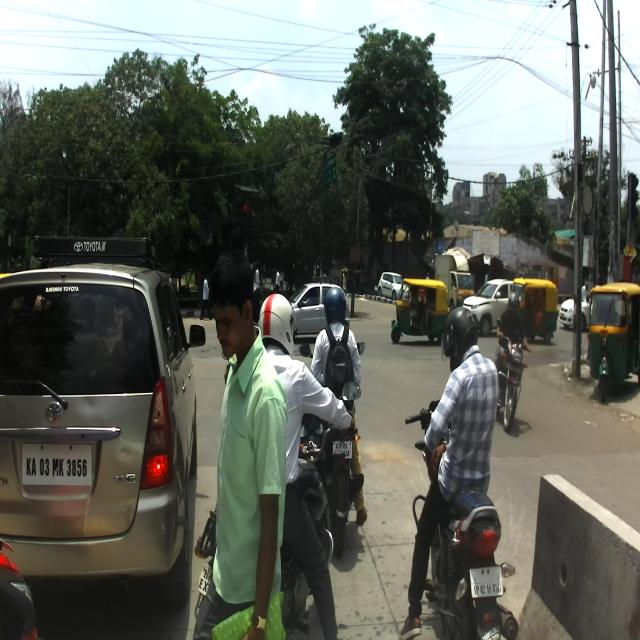auto ahead at: (585, 275, 640, 409)
car ahead at: (0, 254, 205, 590)
motorcycle ahead at: (434, 493, 514, 640), (494, 331, 531, 436)
person ahead at: (205, 269, 293, 640)
